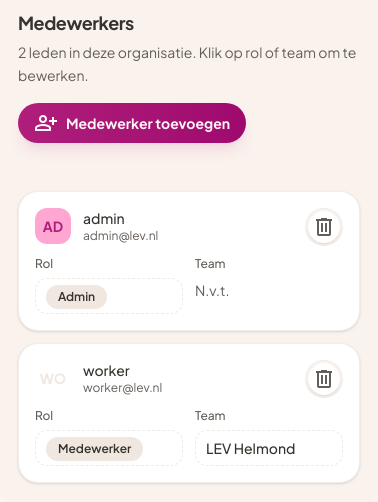
Test: <MembersTab /> › opens inline editing for role and team cells
Click the button with aria-label "rol bewerken: medewerker" at [109, 448], box [35, 430, 183, 466]
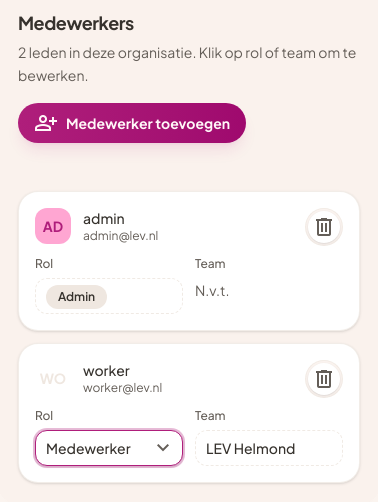
Expected: the dropdown named "rol bewerken" is shown, [35, 430, 183, 466]
Click the button with aria-label "team bewerken: lev helmond" at [269, 448], box [195, 430, 343, 466]
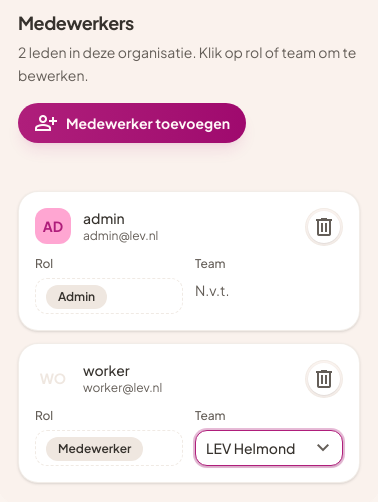
Expected: the dropdown named "team bewerken" is shown, [195, 430, 343, 466]
